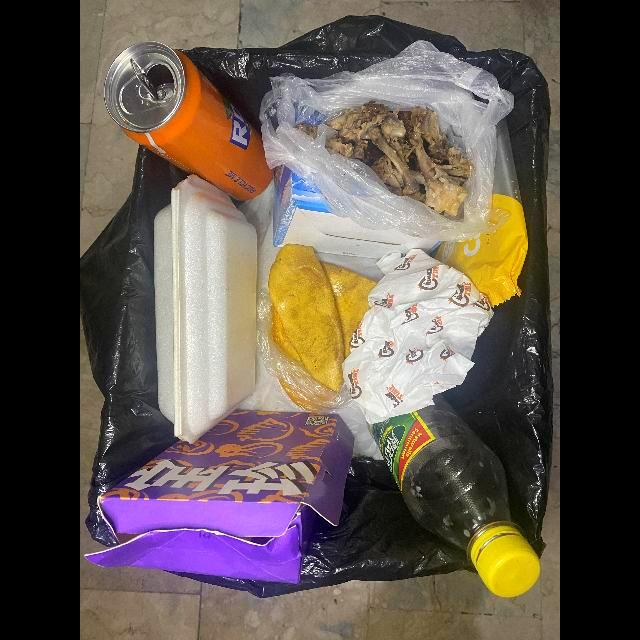aluminum: (103, 42, 275, 201)
cardboard: (84, 411, 354, 585)
food_wrapper: (424, 118, 528, 308)
left_over_food: (323, 102, 471, 220)
paper: (342, 249, 494, 425)
plastic_bag: (259, 41, 514, 242)
plastic_bottle: (368, 394, 541, 599)
